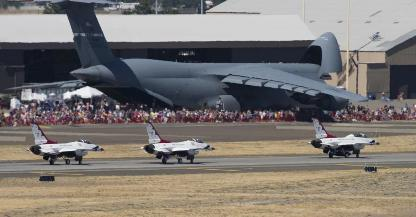C17: (2, 0, 368, 115)
F14: (128, 121, 218, 163), (17, 122, 107, 164), (296, 116, 382, 156)
